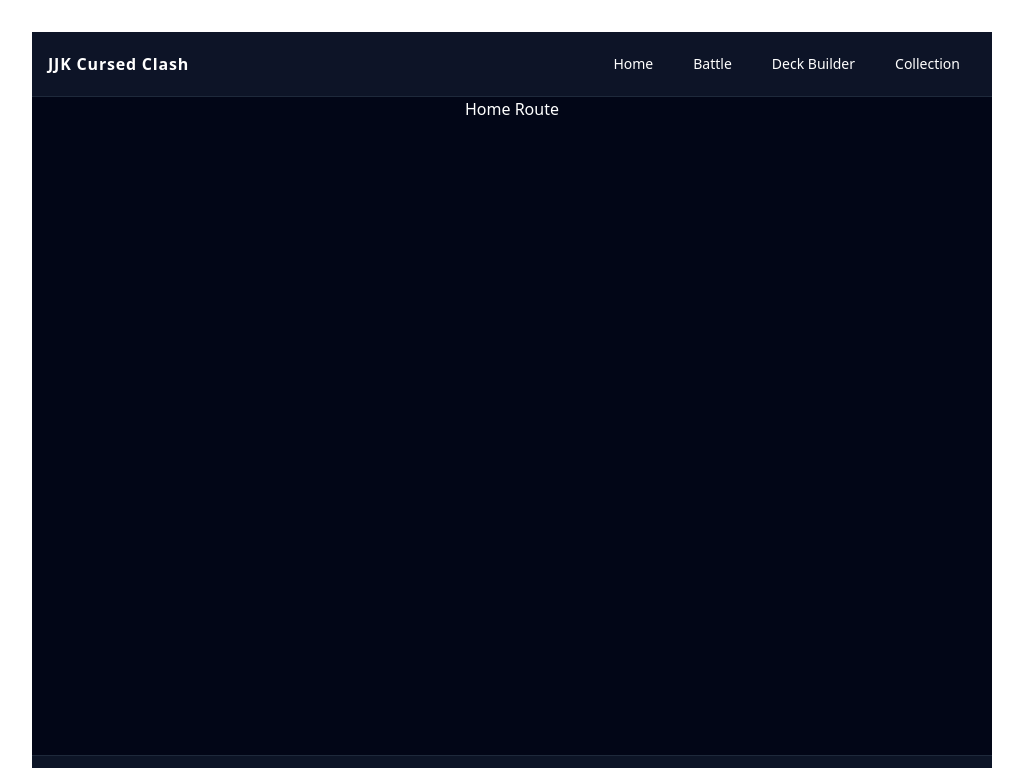
it: AppShell routing and navigation › navigates with header menu buttons
This screenshot has width=1024, height=768.
Click the button "Battle".
click(713, 64)  # box [677,44,748,84]
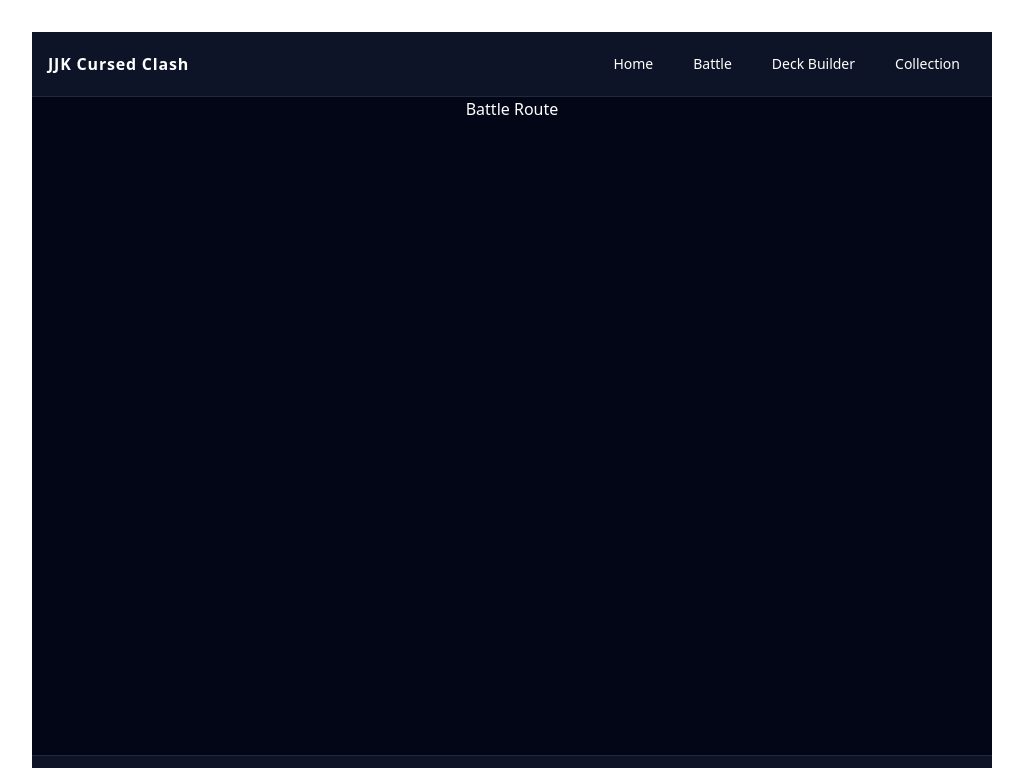
Now the text "Battle Route" is shown, box [466,98,558,120]
Click the button "Deck Builder".
click(813, 64)  # box [756,44,871,84]
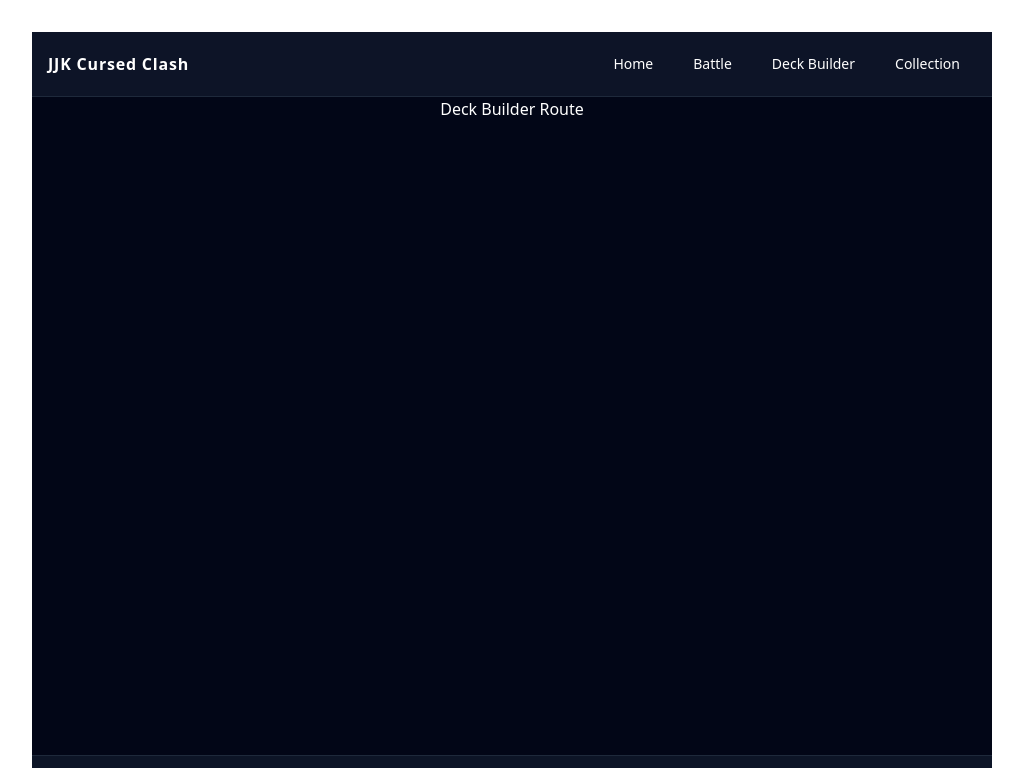
Now the text "Deck Builder Route" is shown, box [440,98,584,120]
Click the button "Collection".
click(928, 64)  # box [879,44,976,84]
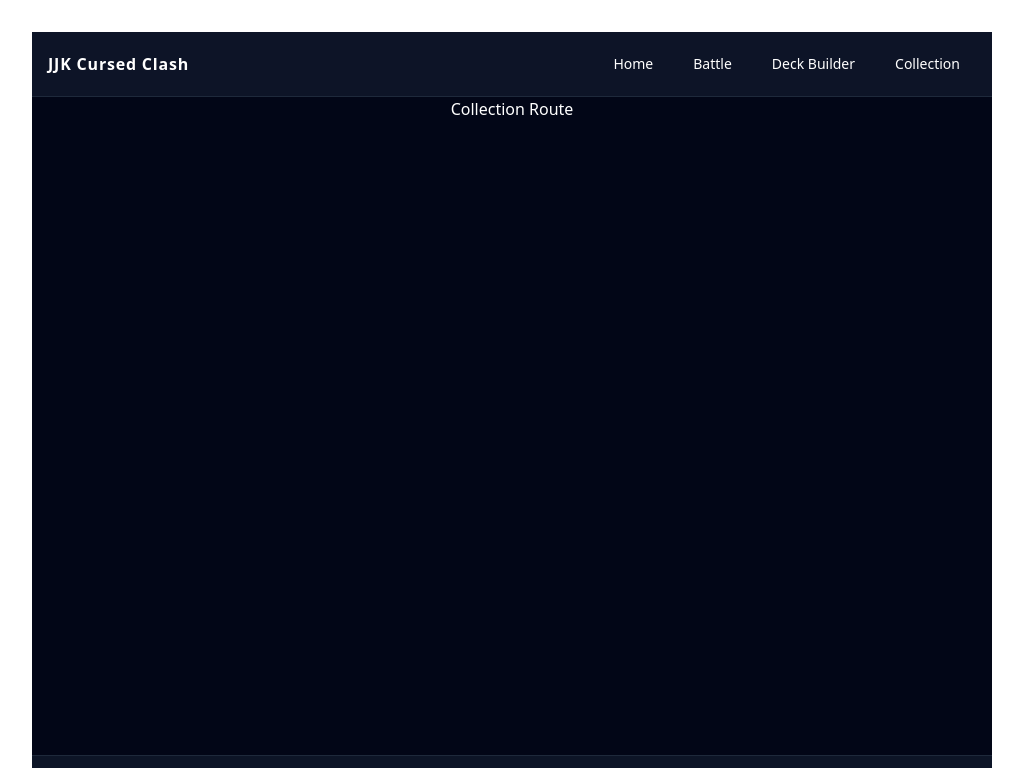
Now the text "Collection Route" is shown, box [451,98,573,120]
